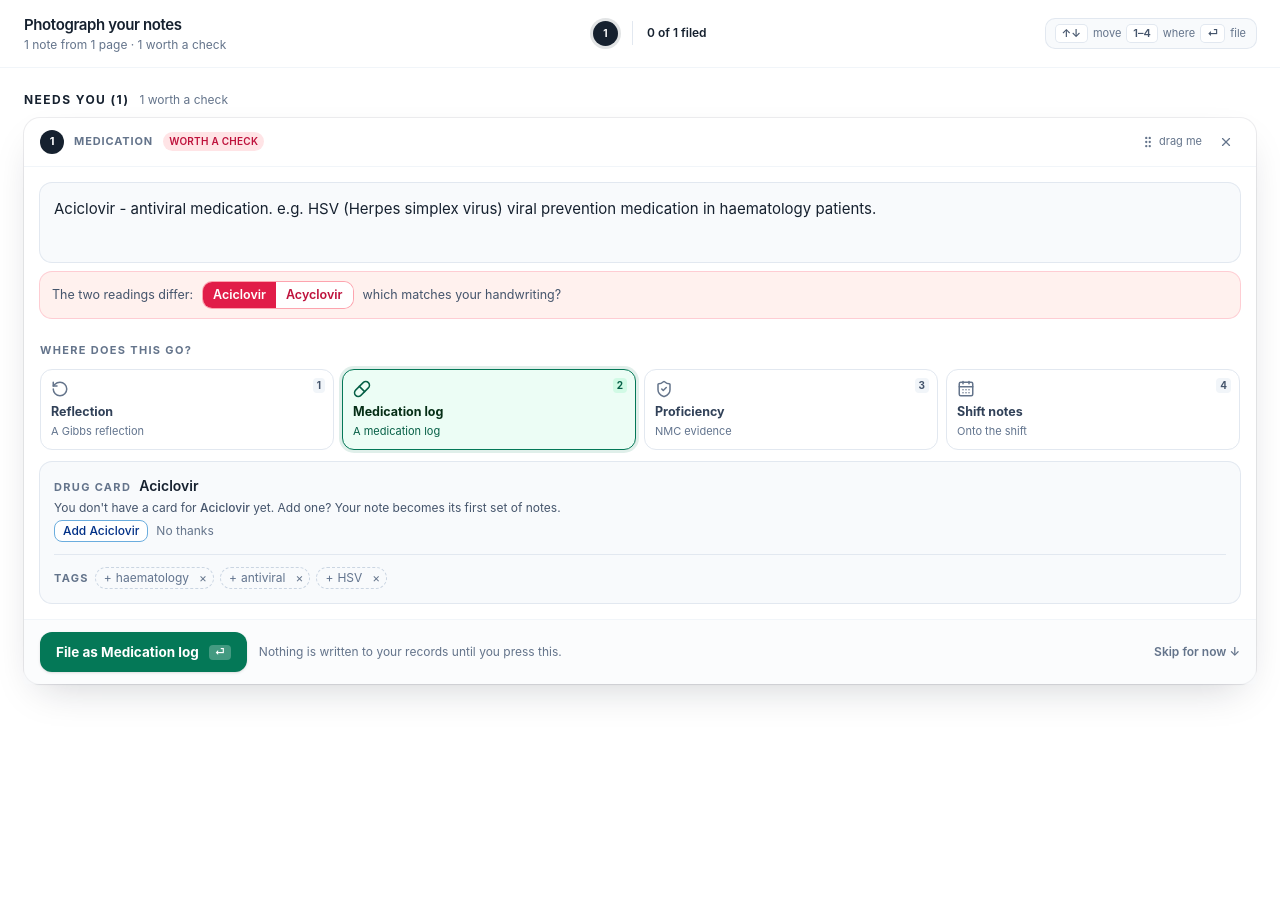
Test case: ReviewPanel — the full taxonomy (P28) › stays reachable when the classifier suggested nothing at all
Click the button with aria-label "Proficiency evidence": (690,411) [644, 369, 938, 450]
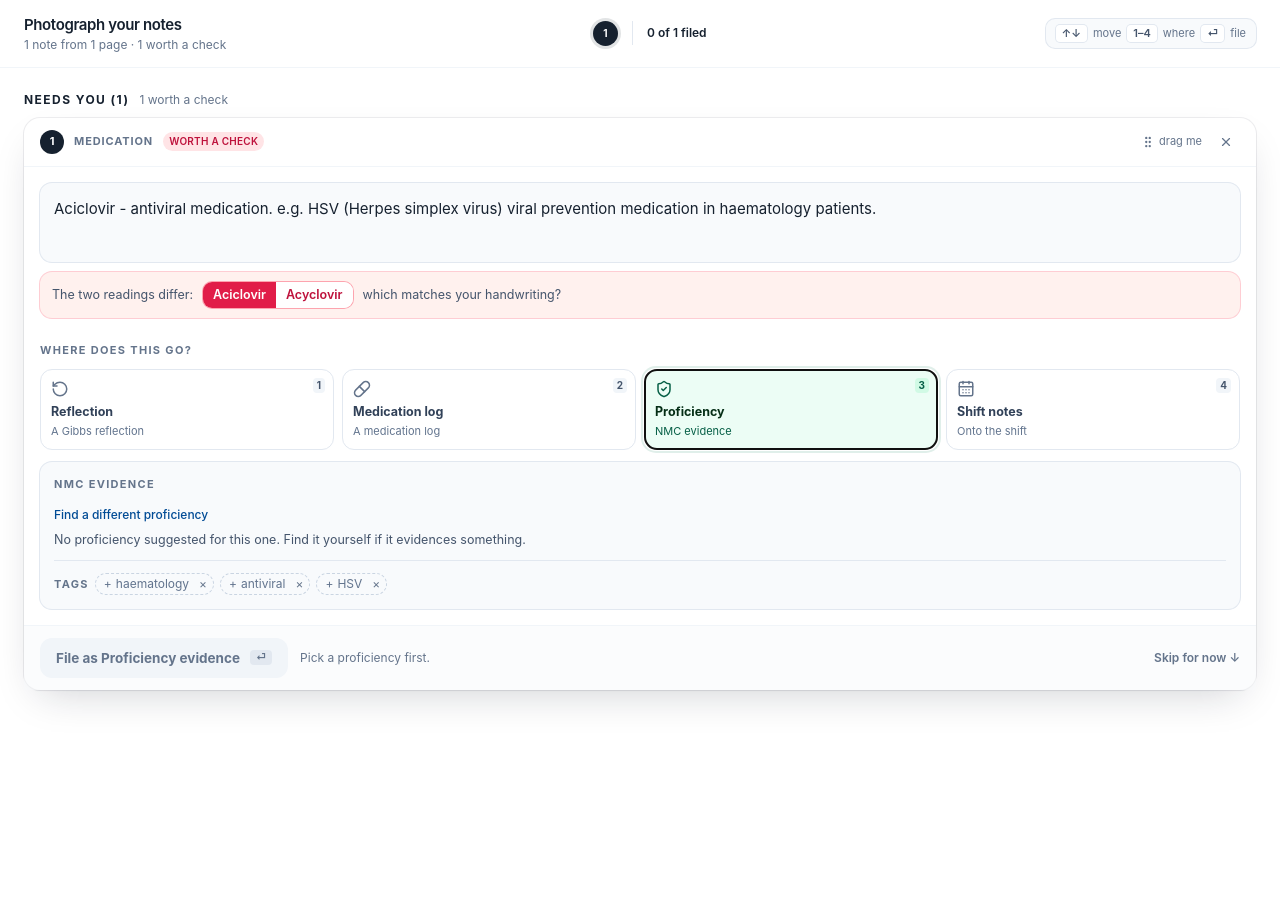
Check: the button "Find a different proficiency" is shown, box [54, 507, 208, 523]
Check: the text "No proficiency suggested" is shown, box [54, 532, 526, 547]
